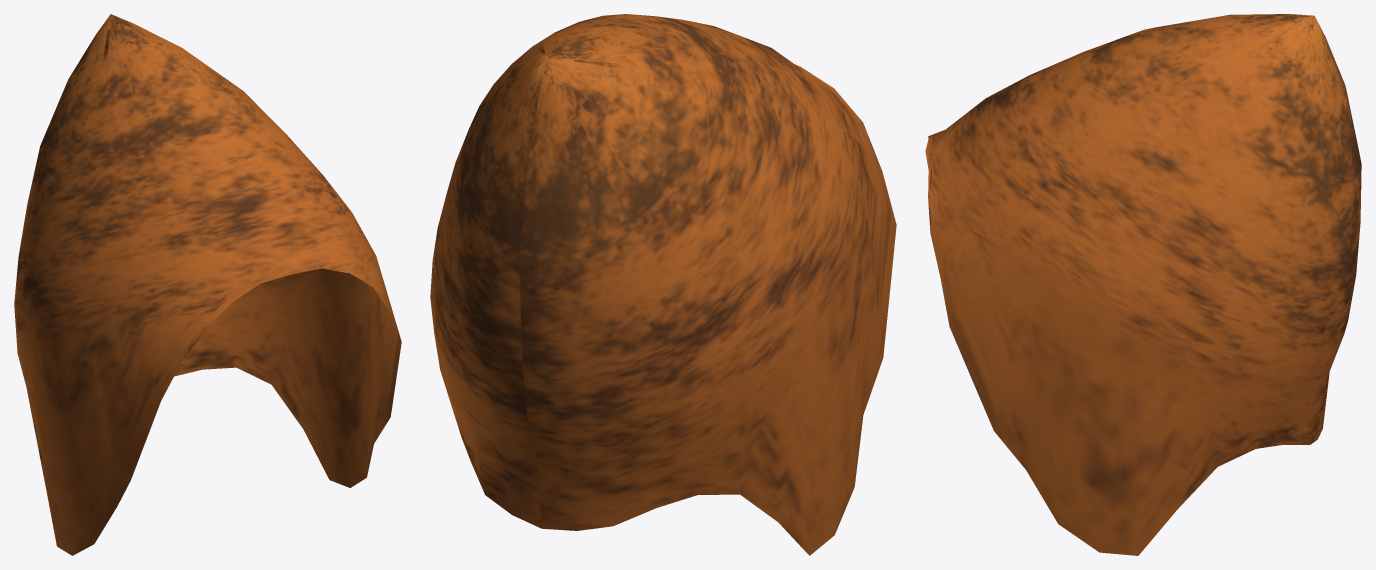
The model's file is lusi_helmet_couro_a.dae.
The picture shows the model from 3 angles, left to right: view 1: azimuth 30°, elevation 25°; view 2: azimuth 150°, elevation 25°; view 3: azimuth 270°, elevation 25°; orthographic projection. The views are drawn at different scales.
Visible parts, largest first — view 1: a_gorro_a; view 2: a_gorro_a; view 3: a_gorro_a.
Boxes of the visible parts, bbox=[...] form: a_gorro_a: bbox=[14, 14, 401, 555]; a_gorro_a: bbox=[430, 14, 896, 555]; a_gorro_a: bbox=[925, 14, 1361, 555].
Bounding box in the file's own units: 0.475 × 0.5474 × 0.6498.
